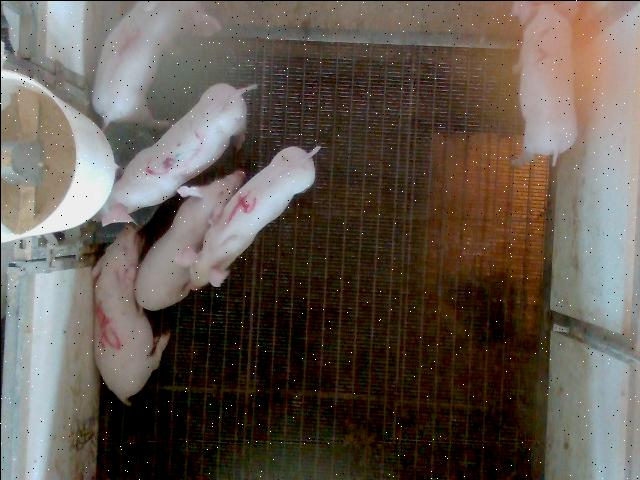pig-1: (91, 1, 185, 121)
pig-2: (511, 2, 578, 164)
pig-3: (98, 83, 254, 224)
pig-4: (176, 145, 319, 288)
pig-5: (91, 223, 169, 404)
